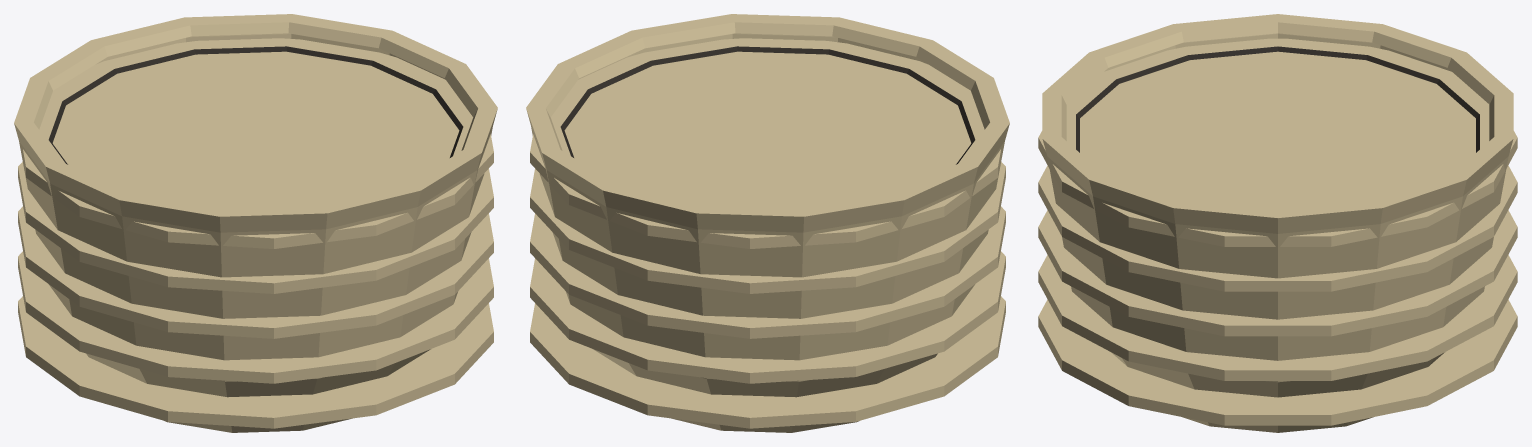
File: sepet.glb
3 renders of one model, left to right at view 1: azimuth 30°, elevation 25°; view 2: azimuth 150°, elevation 25°; view 3: azimuth 270°, elevation 25°, orthographic.
Parts seen in each view (by area): view 1: sepet; view 2: sepet; view 3: sepet.
Boxes of the visible parts, x1=… form: sepet: x1=14, y1=14, x2=497, y2=432; sepet: x1=526, y1=14, x2=1009, y2=432; sepet: x1=1038, y1=14, x2=1517, y2=432.
Size of the model in its own units: 0.49 by 0.28 by 0.486.
